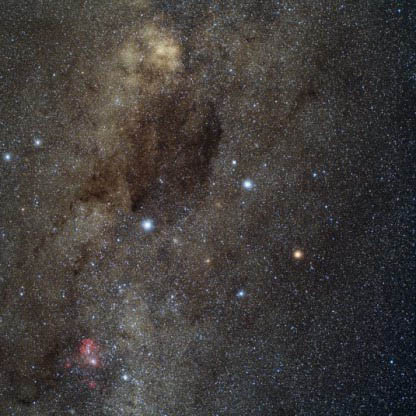Southern Cross: (132, 207, 162, 239), (237, 164, 261, 196), (227, 280, 255, 307), (288, 243, 315, 266)
